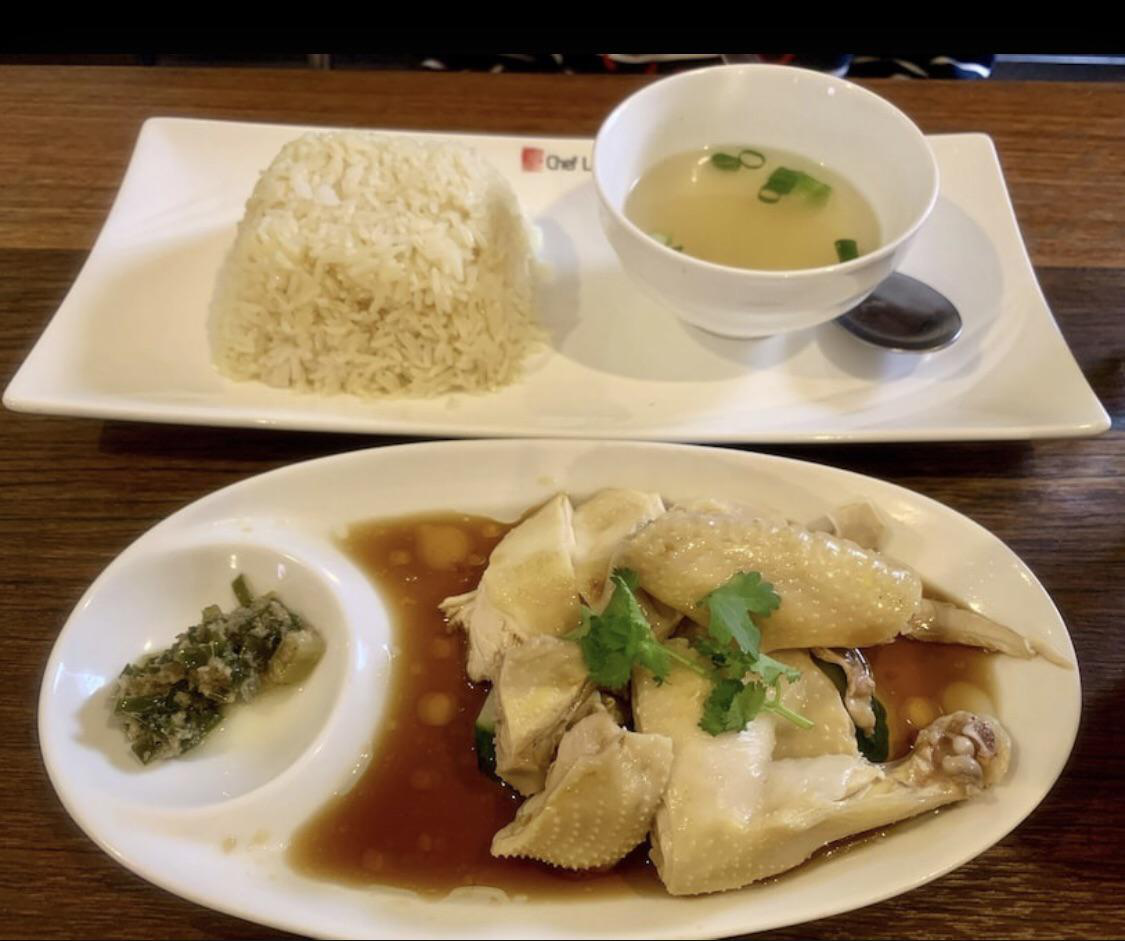Steamed Chicken Rice: (442, 442, 1085, 874)
